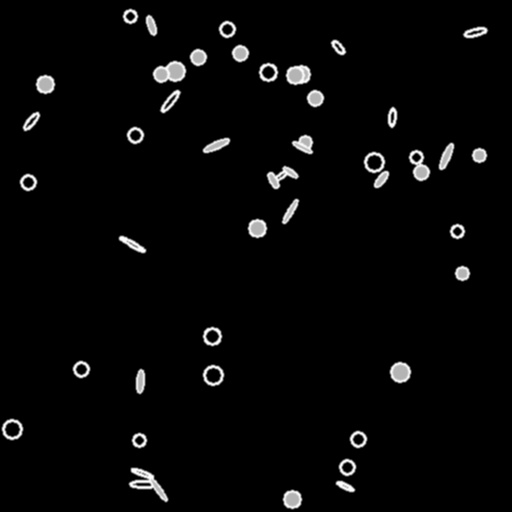pseudomonas: (159, 89, 181, 113), (148, 477, 168, 501), (119, 235, 145, 253), (281, 198, 299, 224), (202, 137, 230, 153), (438, 142, 454, 170), (22, 111, 40, 131), (270, 168, 290, 184), (463, 26, 487, 38), (130, 467, 154, 479), (373, 170, 389, 188), (292, 140, 312, 154), (330, 39, 346, 55), (266, 171, 280, 189), (145, 15, 157, 35), (335, 480, 355, 492), (282, 165, 298, 179), (136, 370, 144, 392), (130, 481, 156, 487), (388, 108, 396, 126)
synechocystis: (166, 62, 184, 80), (391, 363, 409, 381), (3, 420, 21, 438), (204, 366, 222, 384), (365, 153, 383, 171), (293, 66, 309, 82), (260, 64, 276, 80), (287, 67, 303, 83), (284, 491, 300, 507), (249, 220, 265, 236), (204, 328, 220, 344), (37, 76, 53, 92), (21, 175, 35, 189), (308, 91, 322, 105), (220, 22, 234, 36), (351, 432, 365, 446), (128, 128, 142, 142), (340, 460, 354, 474), (154, 67, 168, 81), (191, 50, 205, 64), (74, 362, 88, 376), (414, 165, 428, 179), (233, 46, 247, 60), (124, 10, 136, 22), (473, 149, 485, 161), (410, 151, 422, 163), (456, 267, 468, 279), (299, 136, 311, 148), (133, 434, 145, 446), (451, 225, 463, 237)
